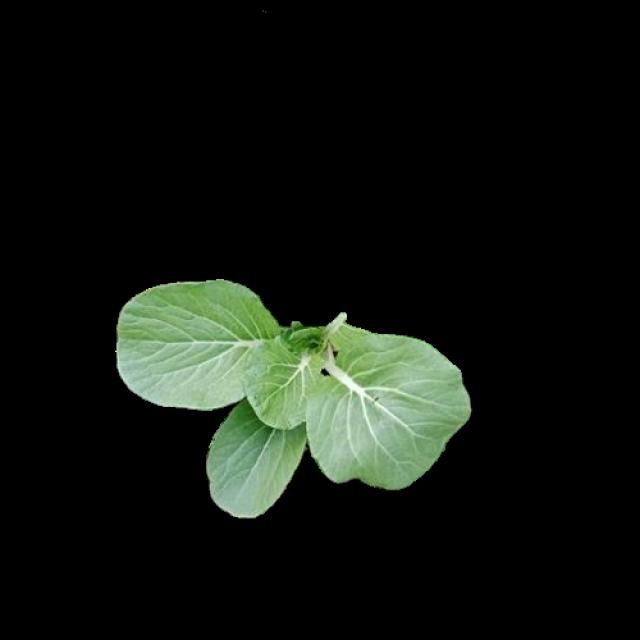healthy: (120, 294, 468, 516)
not-mature: (119, 283, 471, 518)
